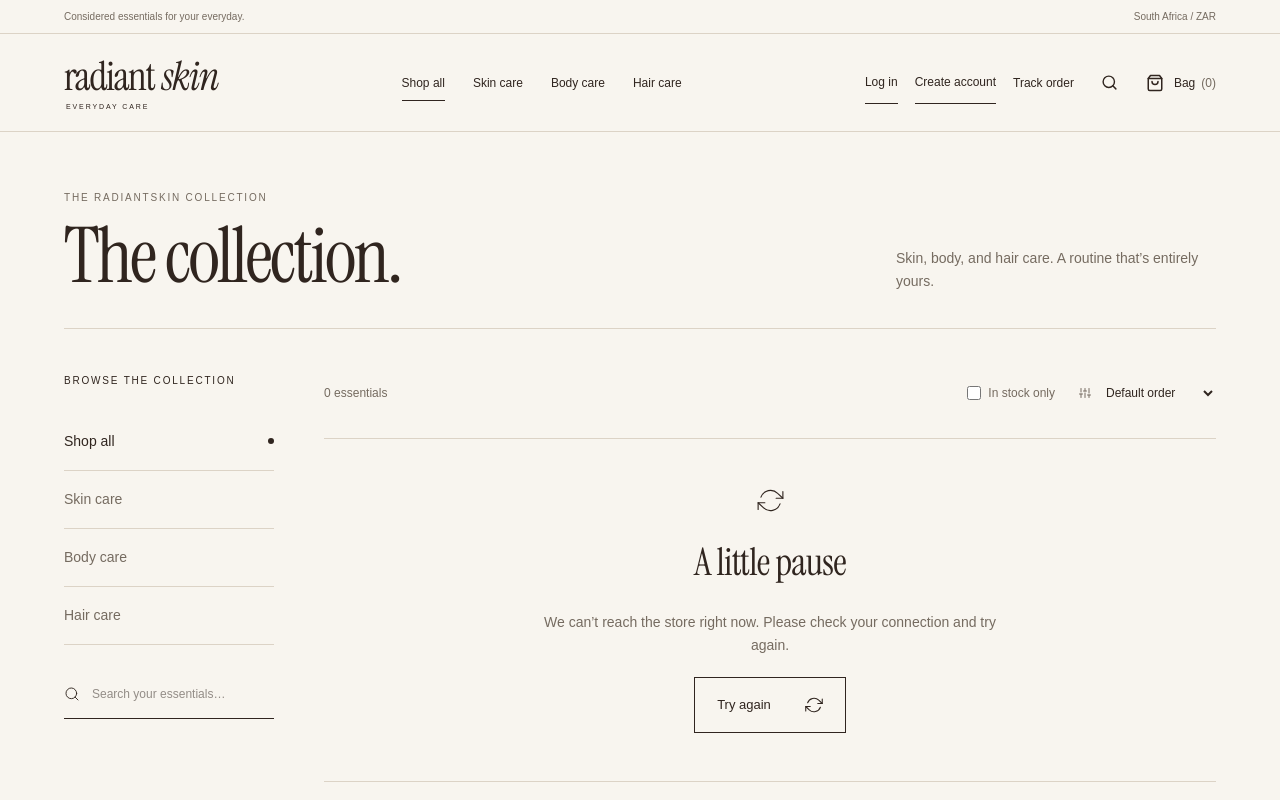
Test: Customer storefront › shows a recoverable error then reloads the real catalogue
Expected: the message is shown, 324,438 -> 1216,782
Click the button "Try again" at point(770, 705), box 694,677 -> 846,733
(page scrolled)
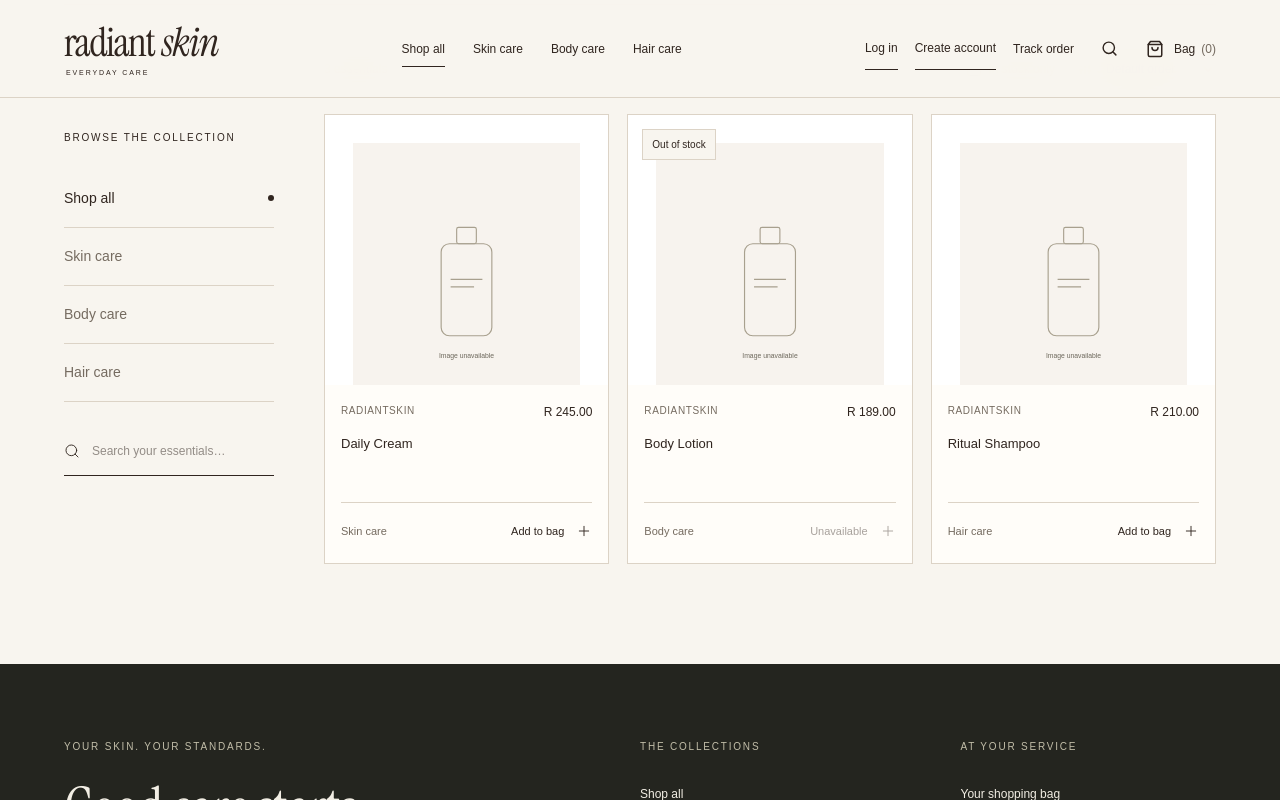
Now the link "Daily Cream" is shown, box 341,436 -> 412,451
